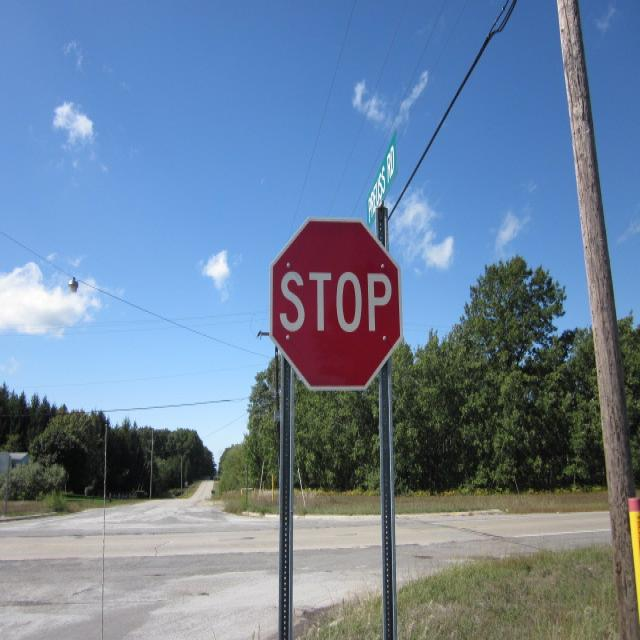stop: (262, 210, 410, 400)
